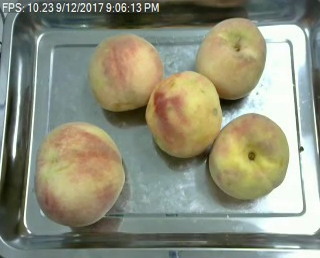Peach: (32, 120, 124, 227), (205, 113, 288, 198), (145, 69, 223, 159), (193, 18, 267, 100), (87, 31, 161, 112)
